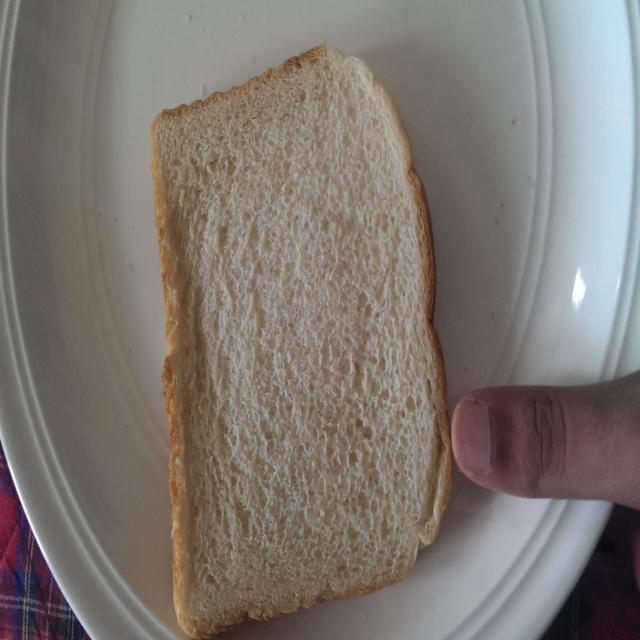bread: (144, 31, 453, 640)
